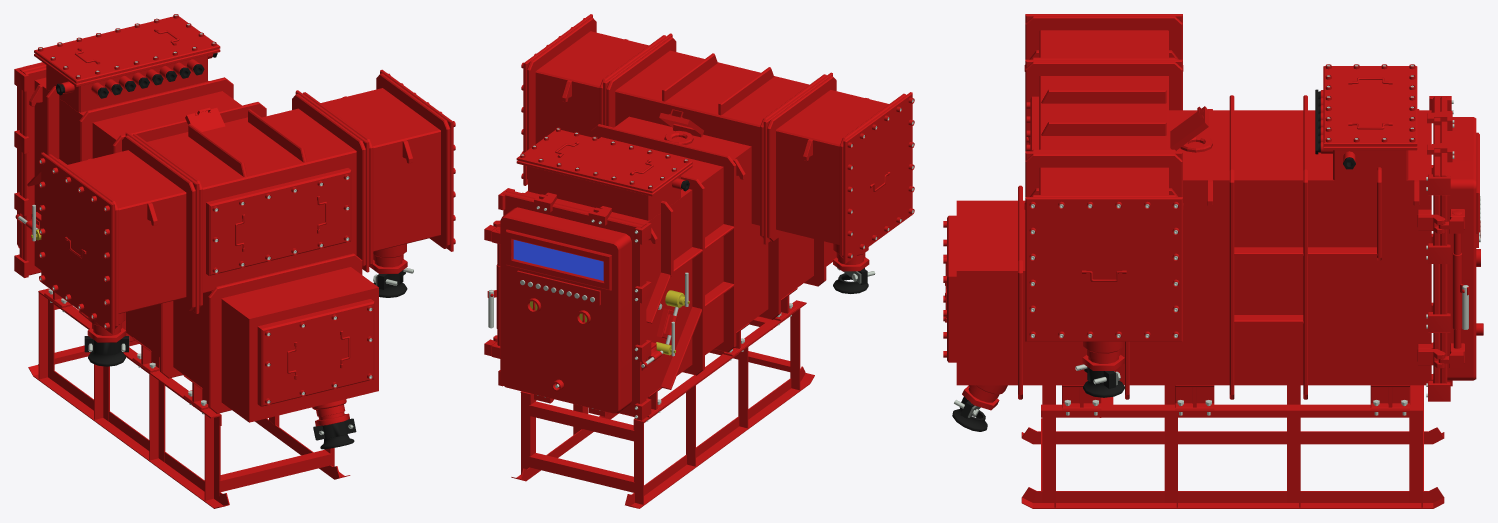
The picture shows the model from 3 angles, left to right: view 1: azimuth 30°, elevation 25°; view 2: azimuth 150°, elevation 25°; view 3: azimuth 270°, elevation 25°; orthographic projection. The views are drawn at different scales.
Visible parts, largest first — view 1: sp; view 2: sp; view 3: sp.
Boxes of the visible parts, x1,y1,x2,y2 form: sp: [14, 14, 455, 508]; sp: [484, 14, 914, 508]; sp: [943, 14, 1483, 508].
Size of the model in its own units: 428 by 393 by 518.
1 material, 1 textured.
